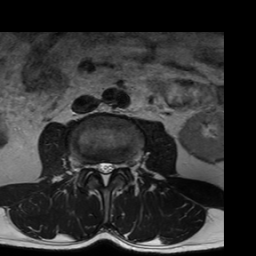CCS_normal: (102, 157, 109, 192)
LFS_stenosis: (117, 158, 123, 175)
LLS_stenosis: (109, 157, 116, 177)
RFS_severe_stenosis: (87, 156, 95, 175)
RLS_stenosis: (95, 157, 102, 178)
